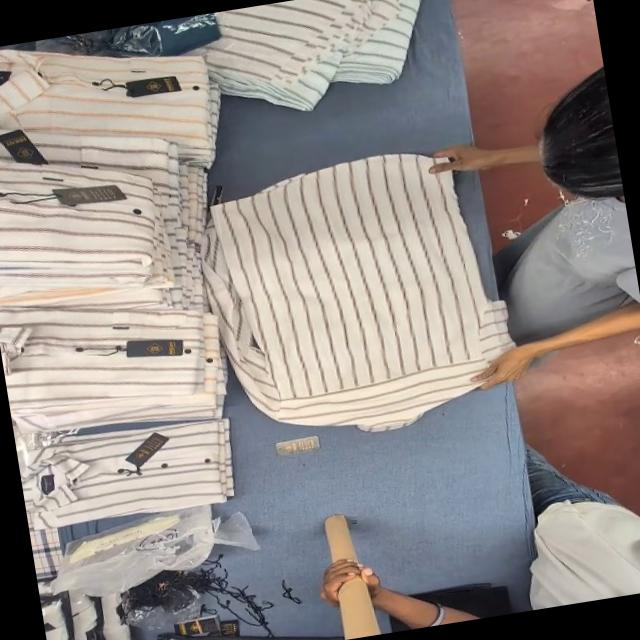new-garment: (204, 154, 512, 429)
